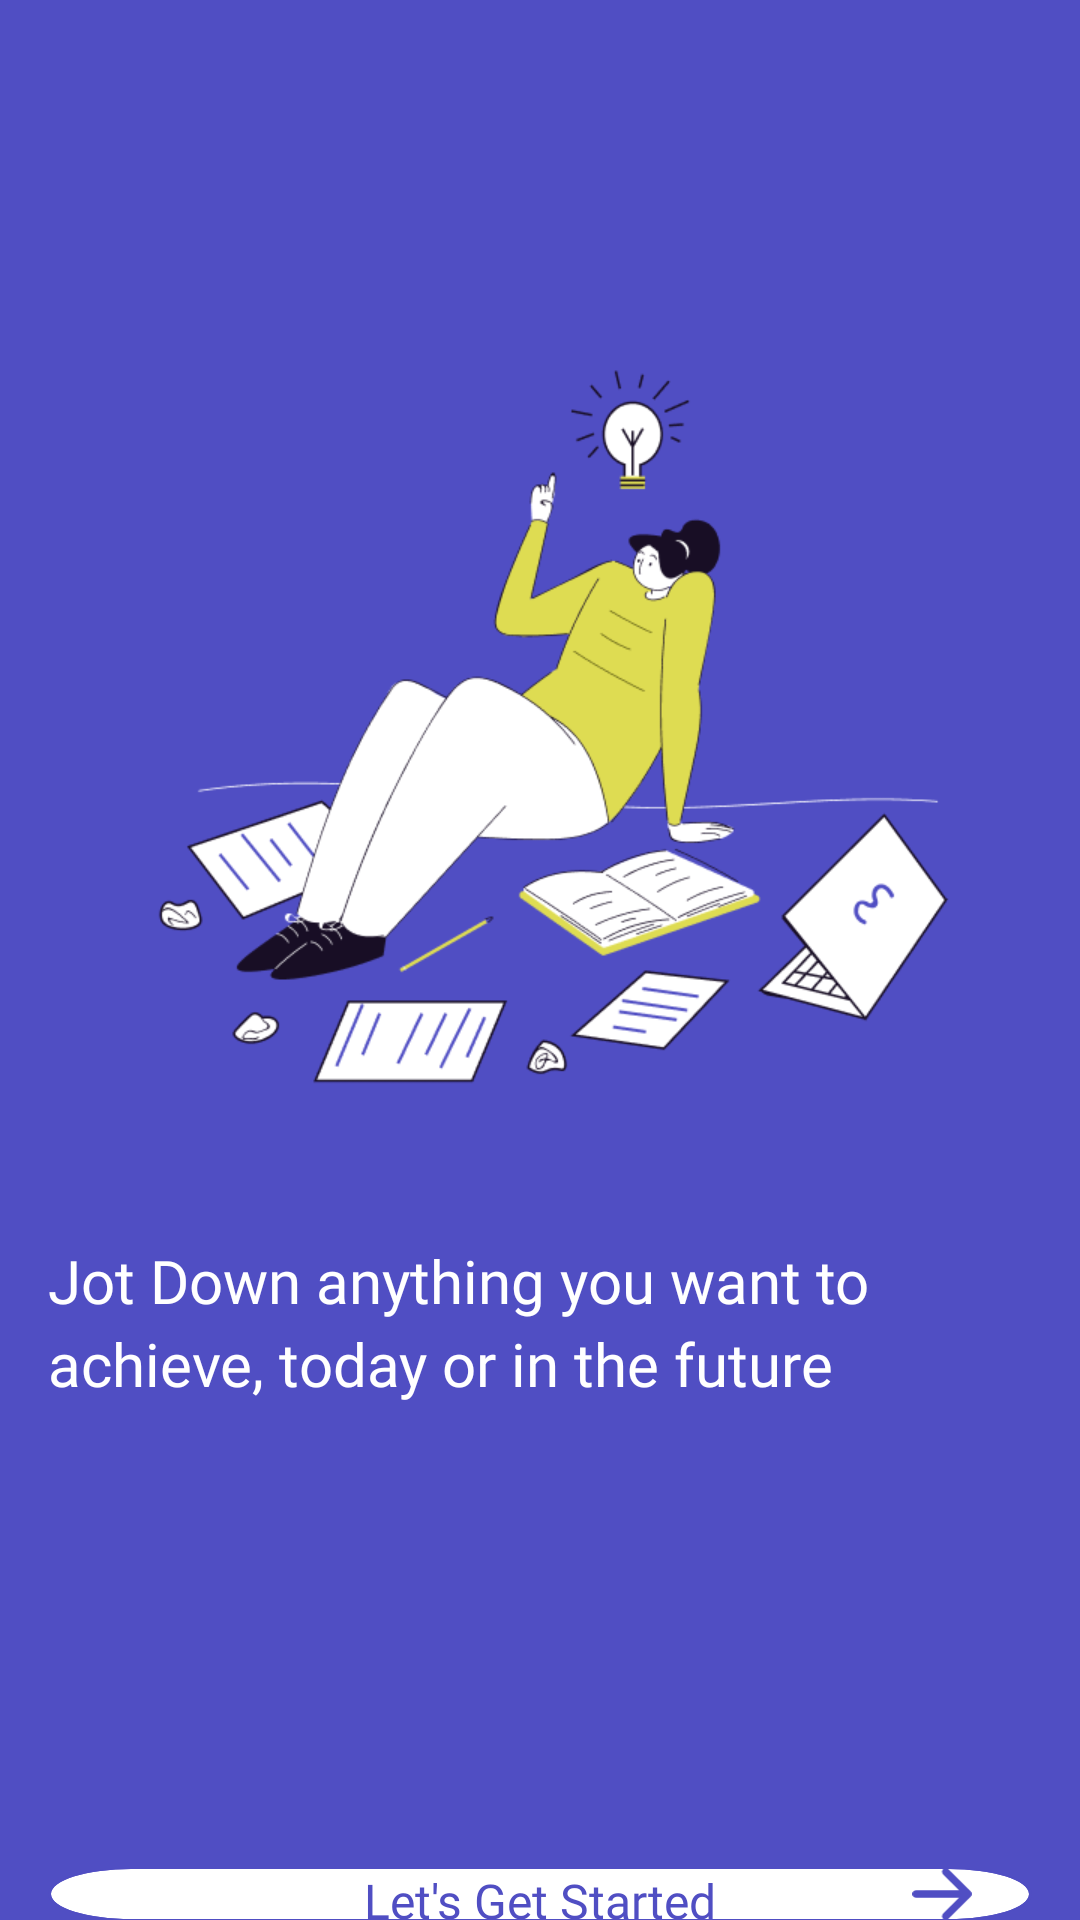

Screen size 1080*1920. Icon name, then its center in pixels as [x,y]:
arrow: [942,1894]
